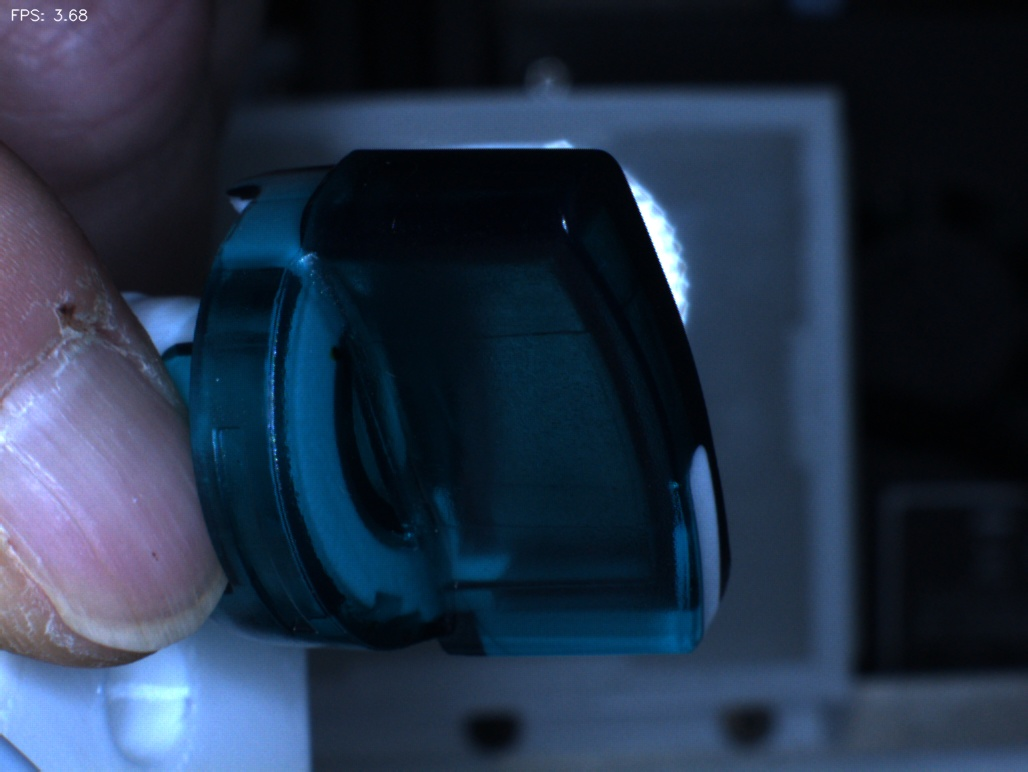PointNoir: (298, 315, 374, 387)
